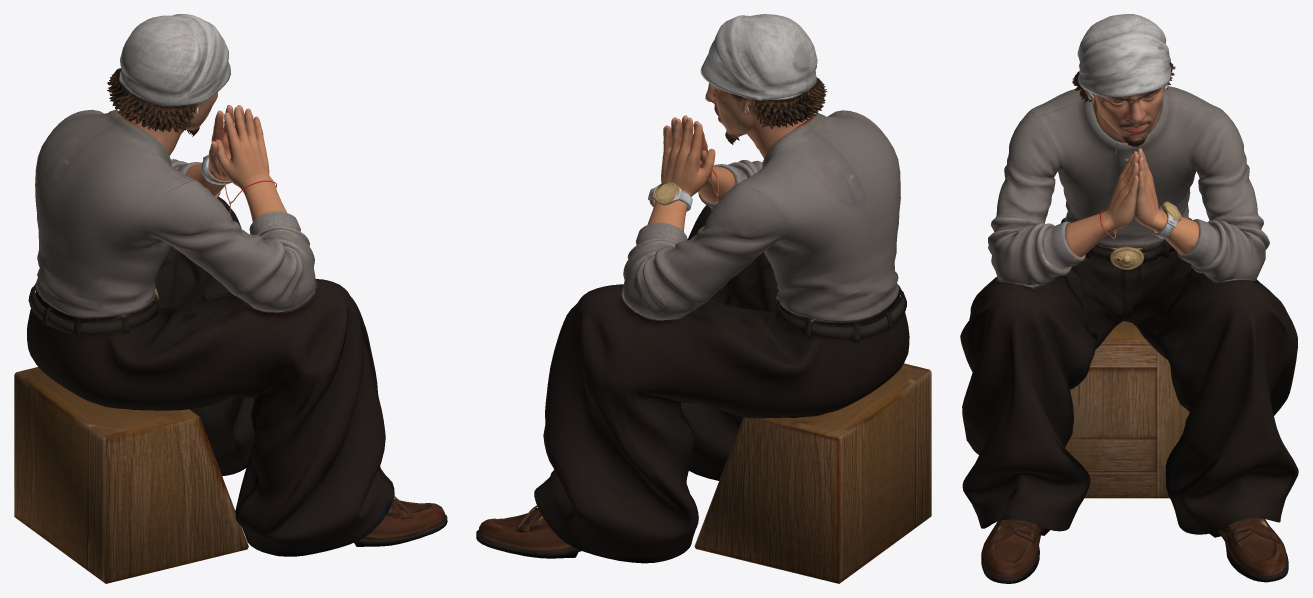
File: rainn-hd.glb
3 renders of one model, left to right at view 1: azimuth 30°, elevation 25°; view 2: azimuth 150°, elevation 25°; view 3: azimuth 270°, elevation 25°, orthographic. The views are drawn at different scales.
Parts seen in each view (by area): view 1: tripo_node_0b8e54e6-2f62-42b4-92bb-c7bdb789cdf8; view 2: tripo_node_0b8e54e6-2f62-42b4-92bb-c7bdb789cdf8; view 3: tripo_node_0b8e54e6-2f62-42b4-92bb-c7bdb789cdf8.
Boxes of the visible parts, box(x1,y1,x2,y2) form: tripo_node_0b8e54e6-2f62-42b4-92bb-c7bdb789cdf8: box(14, 14, 447, 583); tripo_node_0b8e54e6-2f62-42b4-92bb-c7bdb789cdf8: box(476, 14, 931, 583); tripo_node_0b8e54e6-2f62-42b4-92bb-c7bdb789cdf8: box(960, 14, 1298, 583).
Size of the model in its own units: 0.6958 by 0.9995 by 0.6489.
Materials: 1 (1 with a texture image).
